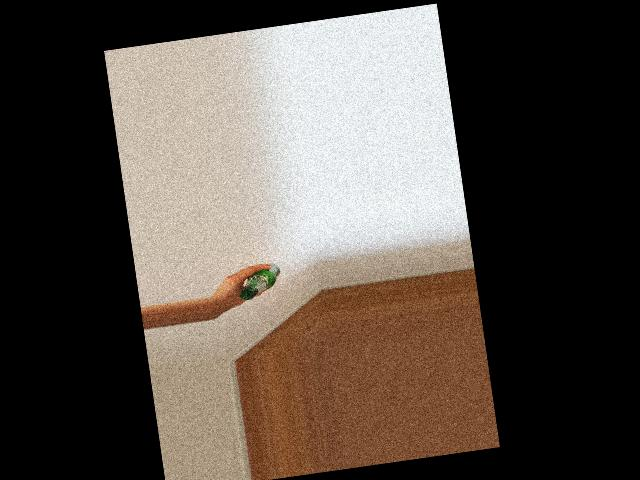beer: (235, 262, 283, 302)
